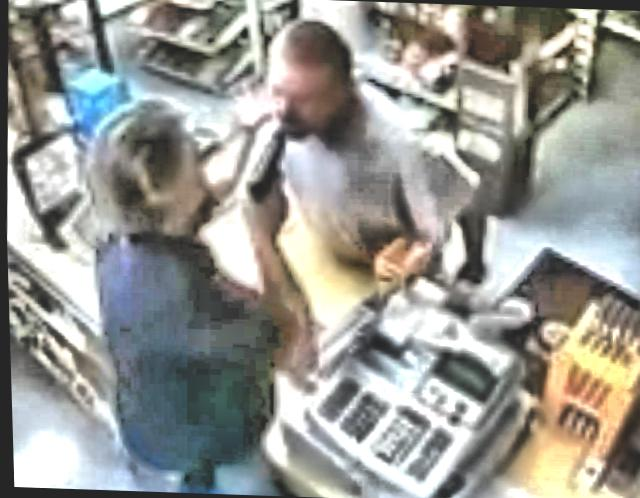pistol: (239, 130, 291, 202)
